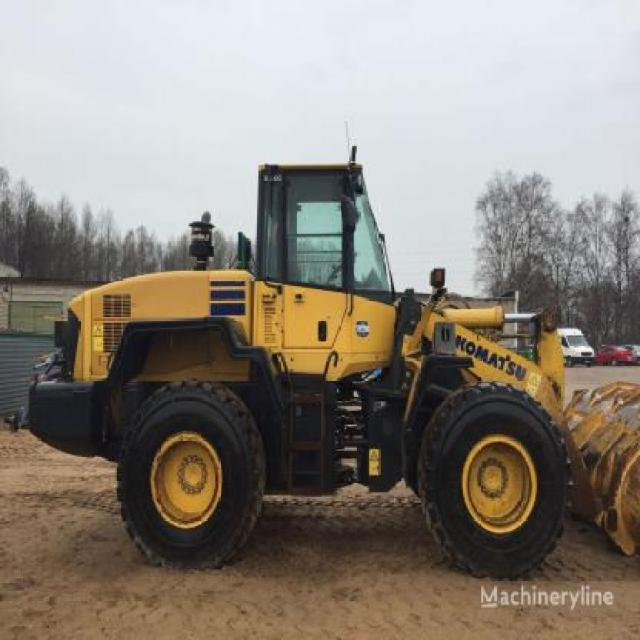Loader: (30, 140, 638, 570)
